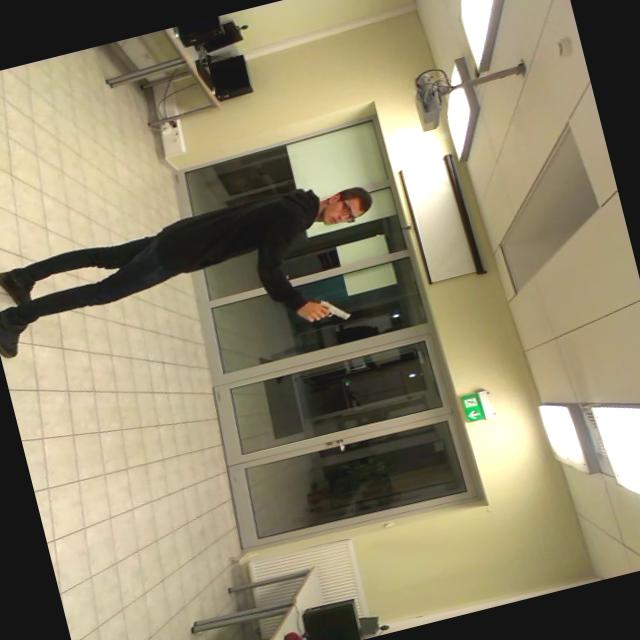handgun: (272, 291, 360, 341)
